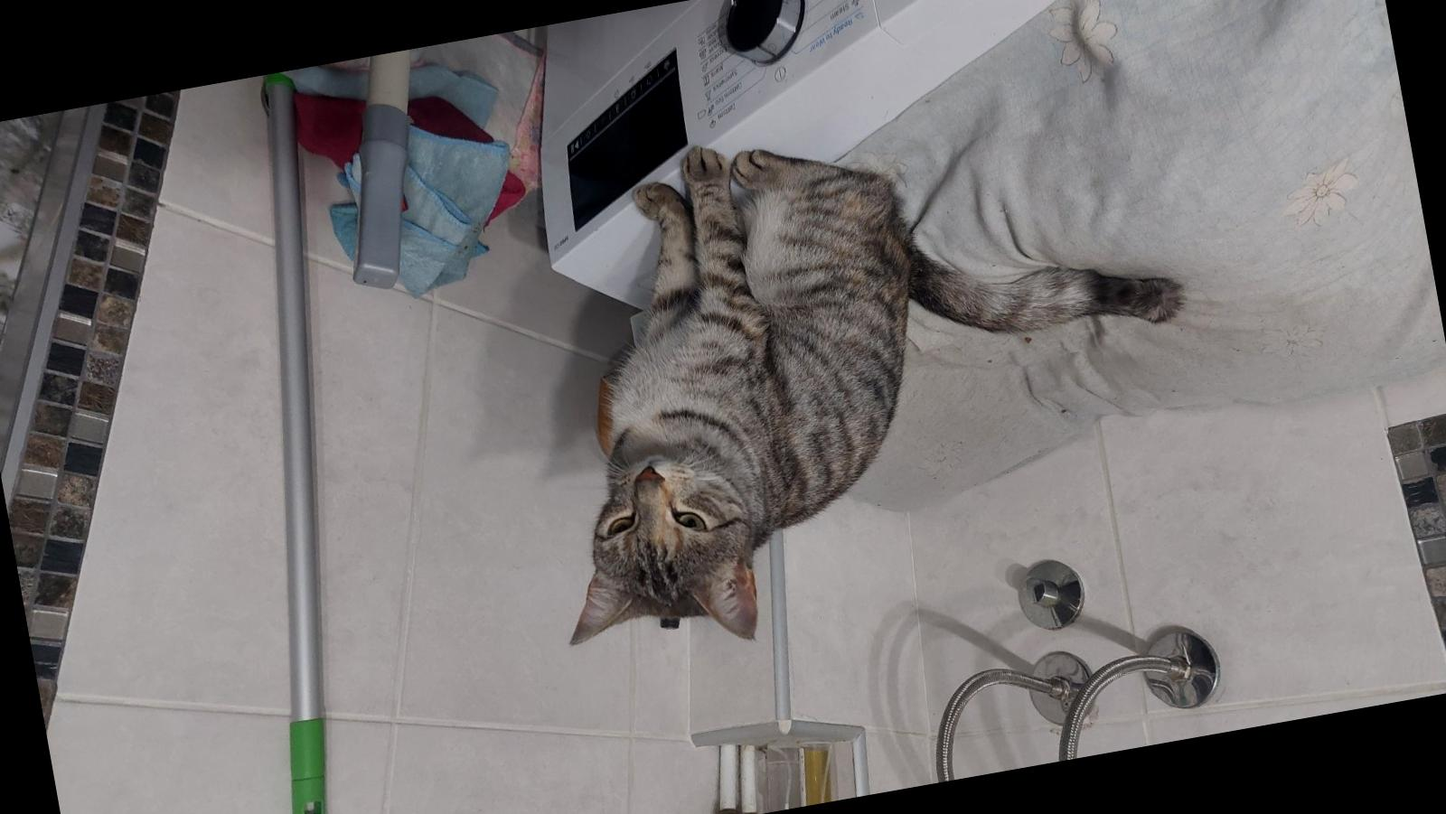macka: (488, 68, 1230, 673)
